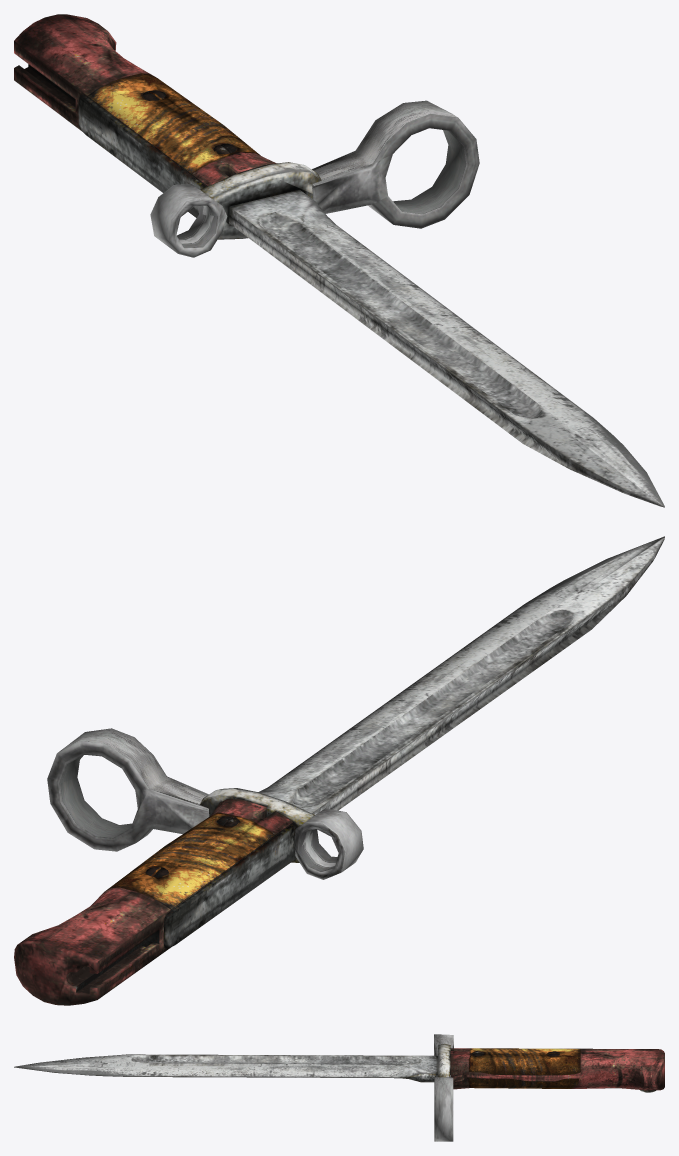
File: BayonetImprovised.fbx
3 views of the same model, one above another, from view 1: azimuth 30°, elevation 25°; view 2: azimuth 150°, elevation 25°; view 3: azimuth 270°, elevation 25° (orthographic). The views are drawn at different scales.
Visible parts, largest first — view 1: BayonetImprovised; view 2: BayonetImprovised; view 3: BayonetImprovised.
Part boxes in pixels (x1,y1,x2,y2): BayonetImprovised: (14,14,664,507); BayonetImprovised: (14,536,664,1005); BayonetImprovised: (14,1034,664,1141).
Size of the model in its own units: 0.0517 by 0.0179 by 0.1808.
